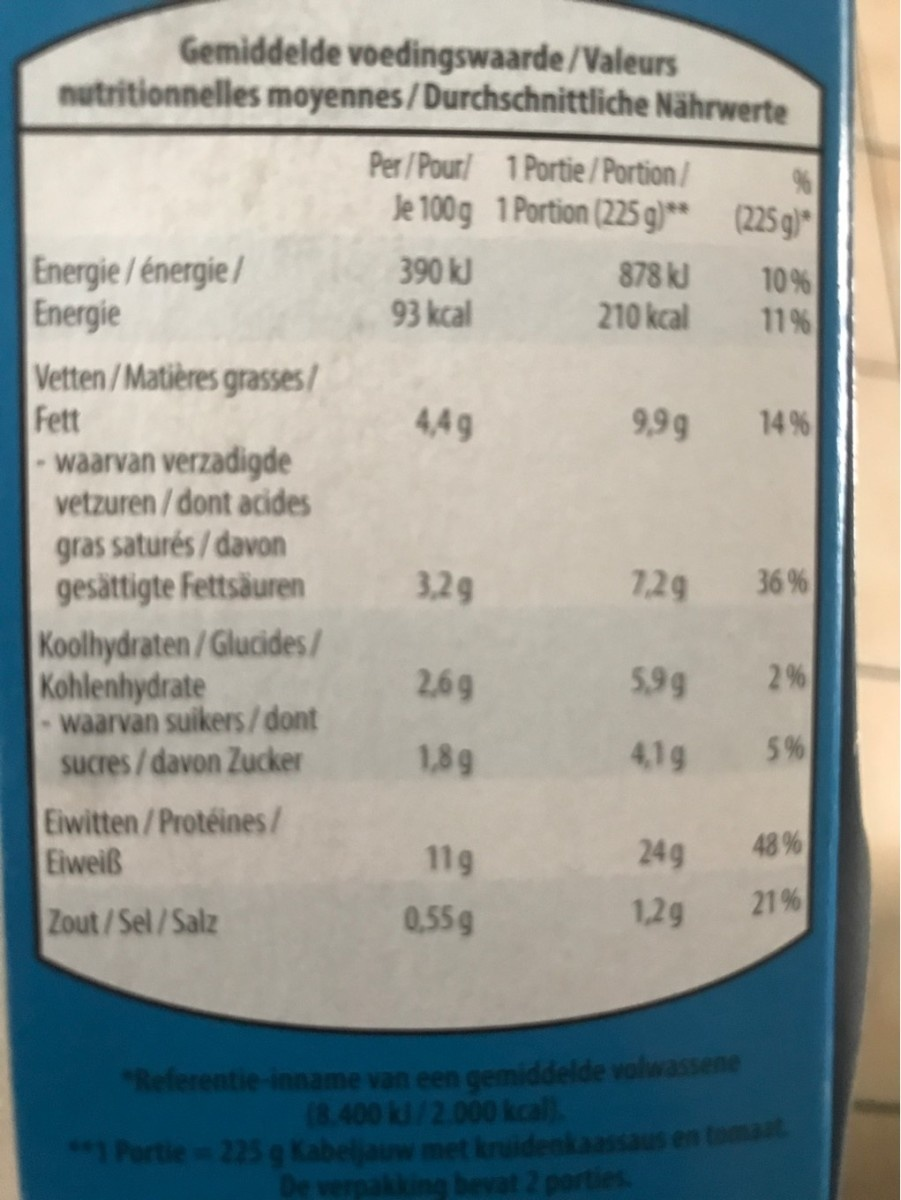column: (27, 128, 322, 1035), (495, 133, 693, 1036), (366, 124, 480, 1038), (732, 140, 814, 1037)
table: (19, 12, 822, 1036)
